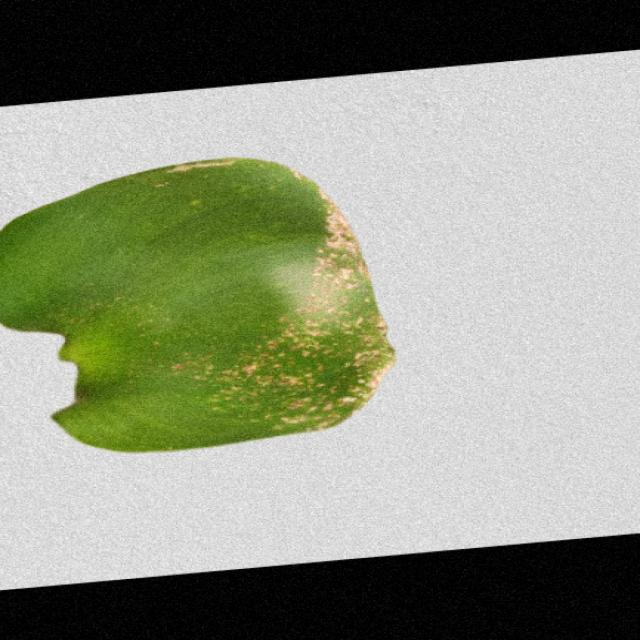daun berpenyakit bercak: (2, 158, 395, 451)
